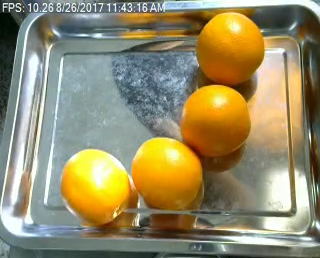Orange: (60, 147, 131, 224), (195, 10, 266, 86), (132, 137, 203, 210), (180, 84, 250, 157)
